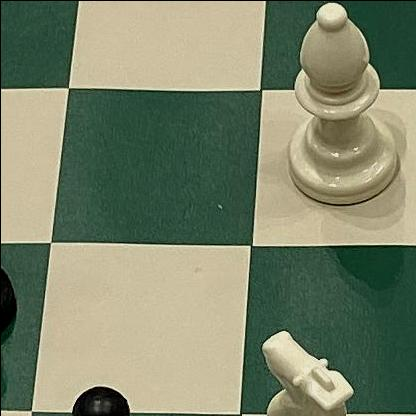black-pawn: (45, 368, 183, 416)
white-bishop: (276, 0, 410, 222)
white-knight: (244, 307, 394, 416)
